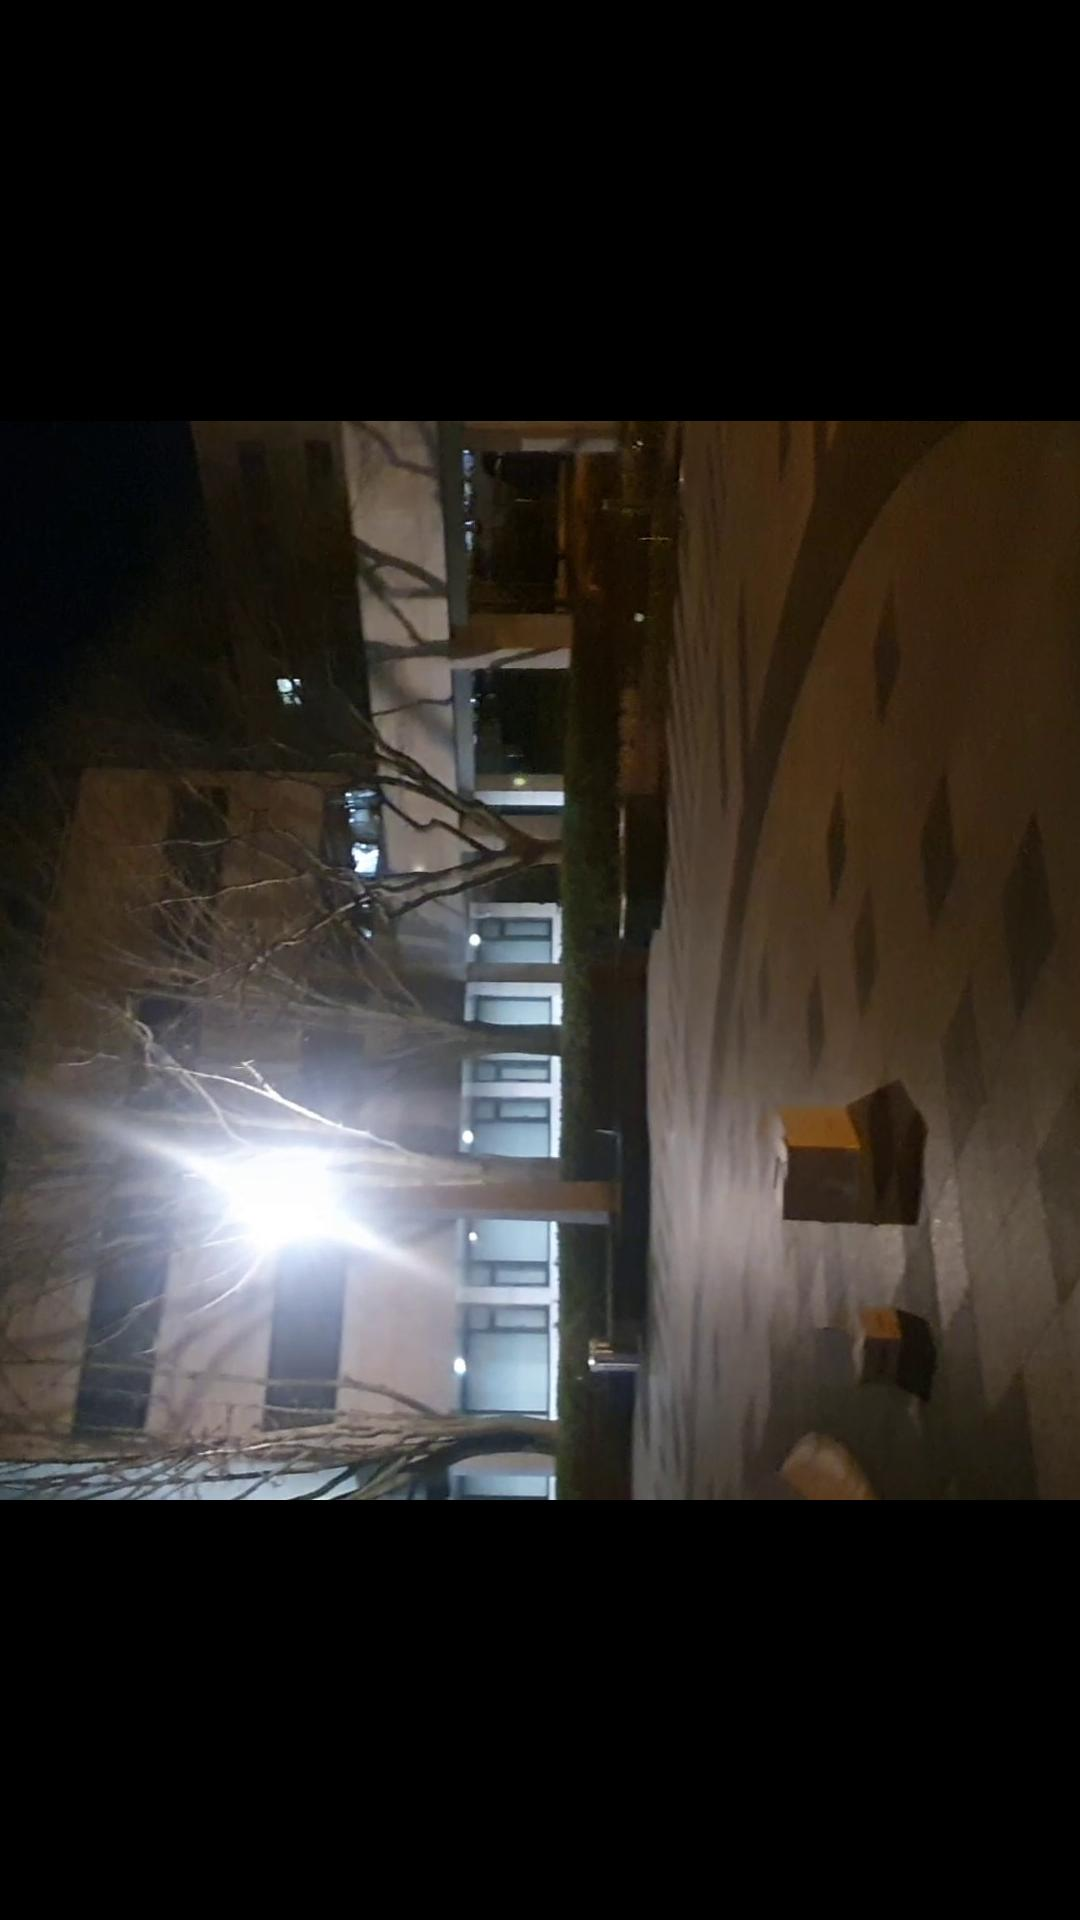Box: (764, 1102, 873, 1229), (848, 1298, 910, 1389)
